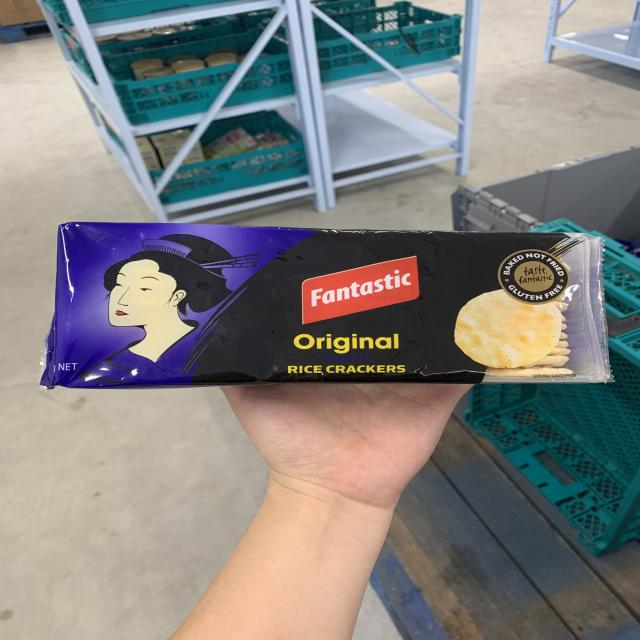object_name: (61, 225, 597, 381)
